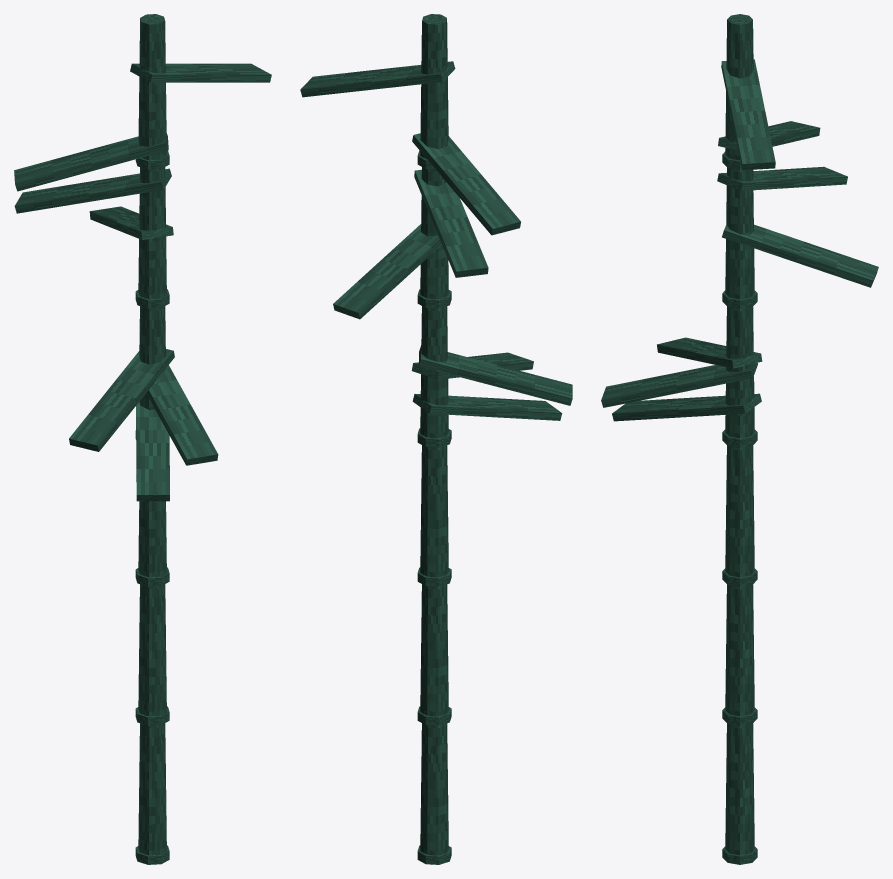
Rendered from bamboo_07.glb.
The picture shows the model from 3 angles, left to right: view 1: azimuth 30°, elevation 25°; view 2: azimuth 150°, elevation 25°; view 3: azimuth 270°, elevation 25°; orthographic projection.
Parts seen in each view (by area): view 1: Leaf.001, Stem, Stem.001, Stem.005, Leaf.004, Leaf, Stem.004, Leaf.002, Leaf.005, Leaf.006, Stem.002, Stem.003 (+1 smaller); view 2: Leaf, Stem.001, Stem.002, Stem, Leaf.003, Leaf.005, Stem.005, Leaf.001, Stem.003, Leaf.006, Leaf.002, Stem.004 (+1 smaller); view 3: Stem.001, Stem.002, Stem, Leaf.006, Leaf.003, Stem.004, Leaf.004, Stem.003, Leaf.002, Stem.005, Leaf.005, Leaf.001 (+1 smaller).
Part boxes in pixels (x1,y1,x2,y2): Leaf.001: (69, 349, 174, 451); Stem: (138, 723, 166, 855); Stem.001: (138, 584, 166, 716); Stem.005: (138, 14, 166, 159); Leaf.004: (146, 365, 218, 465); Leaf: (14, 133, 168, 191); Stem.004: (138, 167, 166, 299); Leaf.002: (136, 402, 169, 501); Leaf.005: (14, 168, 171, 213); Leaf.006: (130, 63, 271, 82); Stem.002: (138, 501, 166, 577); Stem.003: (139, 306, 165, 409); Leaf: (412, 133, 520, 235); Stem.001: (420, 584, 448, 716); Stem.002: (420, 445, 448, 577); Stem: (420, 723, 448, 855); Leaf.003: (333, 224, 441, 319); Leaf.005: (414, 169, 488, 277); Stem.005: (420, 14, 448, 159); Leaf.001: (418, 345, 572, 405); Stem.003: (420, 306, 448, 438); Leaf.006: (300, 61, 455, 97); Leaf.002: (412, 394, 562, 420); Stem.004: (420, 167, 448, 299); Stem.001: (725, 584, 754, 716); Stem.002: (725, 445, 754, 577); Stem: (725, 723, 754, 855); Leaf.006: (721, 59, 775, 170); Leaf.003: (722, 224, 878, 287); Stem.004: (725, 167, 754, 299); Leaf.004: (601, 363, 757, 407); Stem.003: (725, 306, 754, 438); Leaf.002: (612, 393, 761, 421); Stem.005: (725, 14, 753, 160); Leaf.005: (717, 166, 847, 190); Leaf.001: (657, 337, 762, 368).
Size of the model in its own units: 1.45 by 4.99 by 1.5.
Materials: 1 (1 with a texture image).
